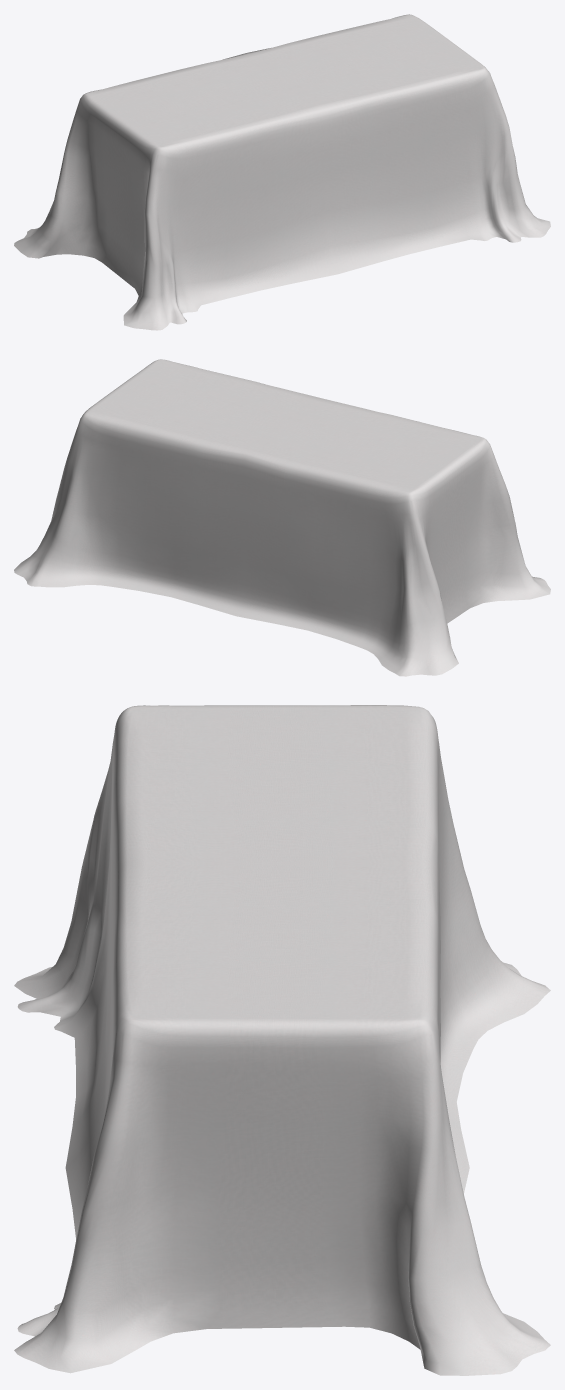
The model's file is EventTable01Cloth03_1.FBX.
3 renders of one model, top to bottom at view 1: azimuth 30°, elevation 25°; view 2: azimuth 150°, elevation 25°; view 3: azimuth 270°, elevation 25°, orthographic. The views are drawn at different scales.
Parts seen in each view (by area): view 1: EventTable01Cloth03_1; view 2: EventTable01Cloth03_1; view 3: EventTable01Cloth03_1.
Boxes of the visible parts, x1=… form: EventTable01Cloth03_1: x1=14, y1=14, x2=550, y2=330; EventTable01Cloth03_1: x1=14, y1=359, x2=550, y2=676; EventTable01Cloth03_1: x1=14, y1=705, x2=550, y2=1375.
Size of what is drawn, in the model's own units: 2.63 by 0.9001 by 1.44.
